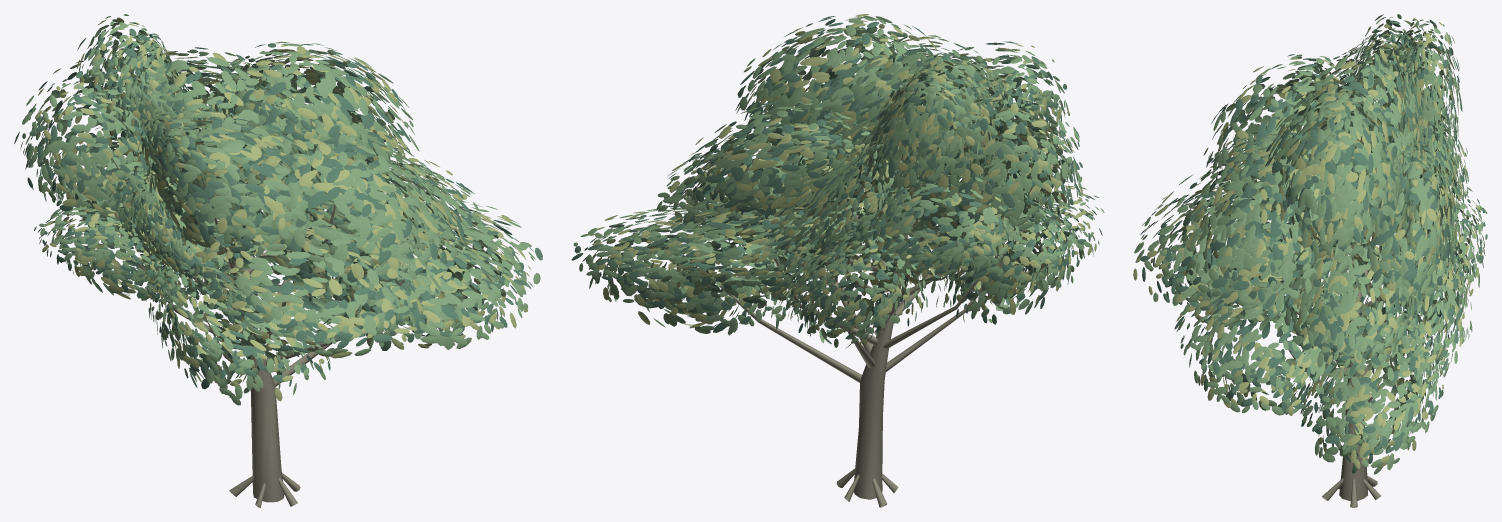
File: grove_7.glb
3 views of the same model, side by side, from view 1: azimuth 30°, elevation 25°; view 2: azimuth 150°, elevation 25°; view 3: azimuth 270°, elevation 25° (orthographic). The views are drawn at different scales.
Parts seen in each view (by area): view 1: study_canopy_1_StudyLeafJade, study_canopy_1_StudyLeafDeep, study_canopy_1_StudyLeafGold, study_canopy_1_StudyBark; view 2: study_canopy_1_StudyLeafJade, study_canopy_1_StudyLeafDeep, study_canopy_1_StudyLeafGold, study_canopy_1_StudyBark; view 3: study_canopy_1_StudyLeafJade, study_canopy_1_StudyLeafDeep, study_canopy_1_StudyLeafGold, study_canopy_1_StudyBark.
Part boxes in pixels (x1=…): study_canopy_1_StudyLeafJade: x1=14, y1=14, x2=540, y2=405; study_canopy_1_StudyLeafDeep: x1=25, y1=22, x2=542, y2=397; study_canopy_1_StudyLeafGold: x1=20, y1=17, x2=530, y2=401; study_canopy_1_StudyBark: x1=111, y1=121, x2=404, y2=507; study_canopy_1_StudyLeafJade: x1=573, y1=16, x2=1104, y2=347; study_canopy_1_StudyLeafDeep: x1=571, y1=16, x2=1102, y2=343; study_canopy_1_StudyLeafGold: x1=590, y1=14, x2=1096, y2=348; study_canopy_1_StudyBark: x1=705, y1=122, x2=1007, y2=507; study_canopy_1_StudyLeafJade: x1=1134, y1=14, x2=1487, y2=474; study_canopy_1_StudyLeafDeep: x1=1140, y1=20, x2=1487, y2=473; study_canopy_1_StudyLeafGold: x1=1133, y1=17, x2=1484, y2=468; study_canopy_1_StudyBark: x1=1243, y1=117, x2=1425, y2=507.
Size of the model in its own units: 11.81 by 10.76 by 8.1.
